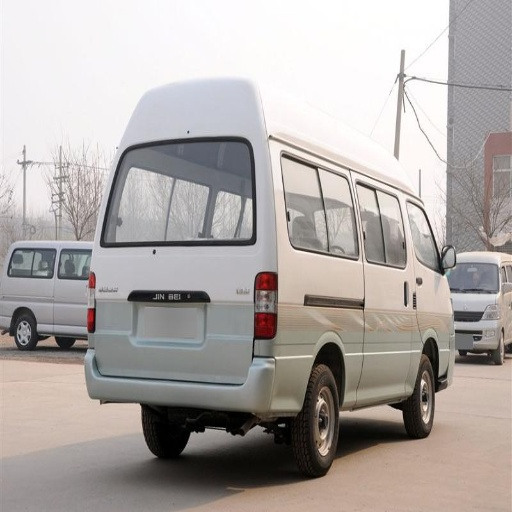back_bumper: (87, 335, 311, 413)
back_right_door: (281, 154, 337, 253), (129, 151, 223, 194), (357, 185, 413, 250)
trunk: (2, 252, 260, 383), (286, 290, 444, 399)
